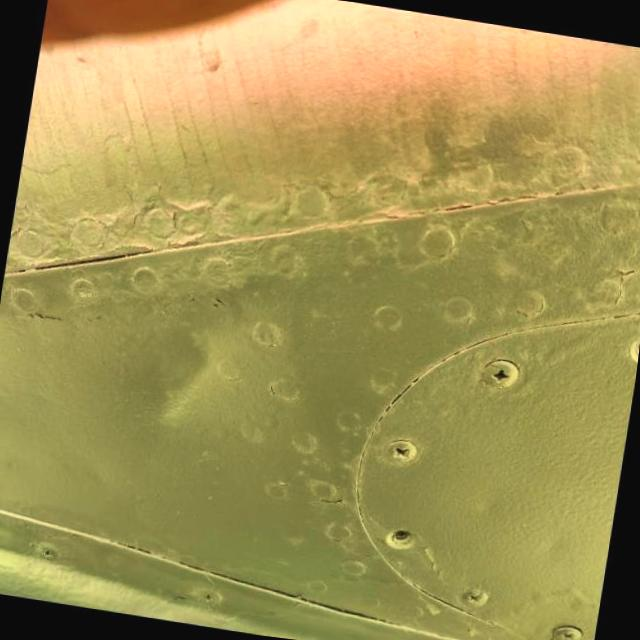Missing Fastener: (382, 526, 413, 550)
dent: (106, 278, 255, 456)
